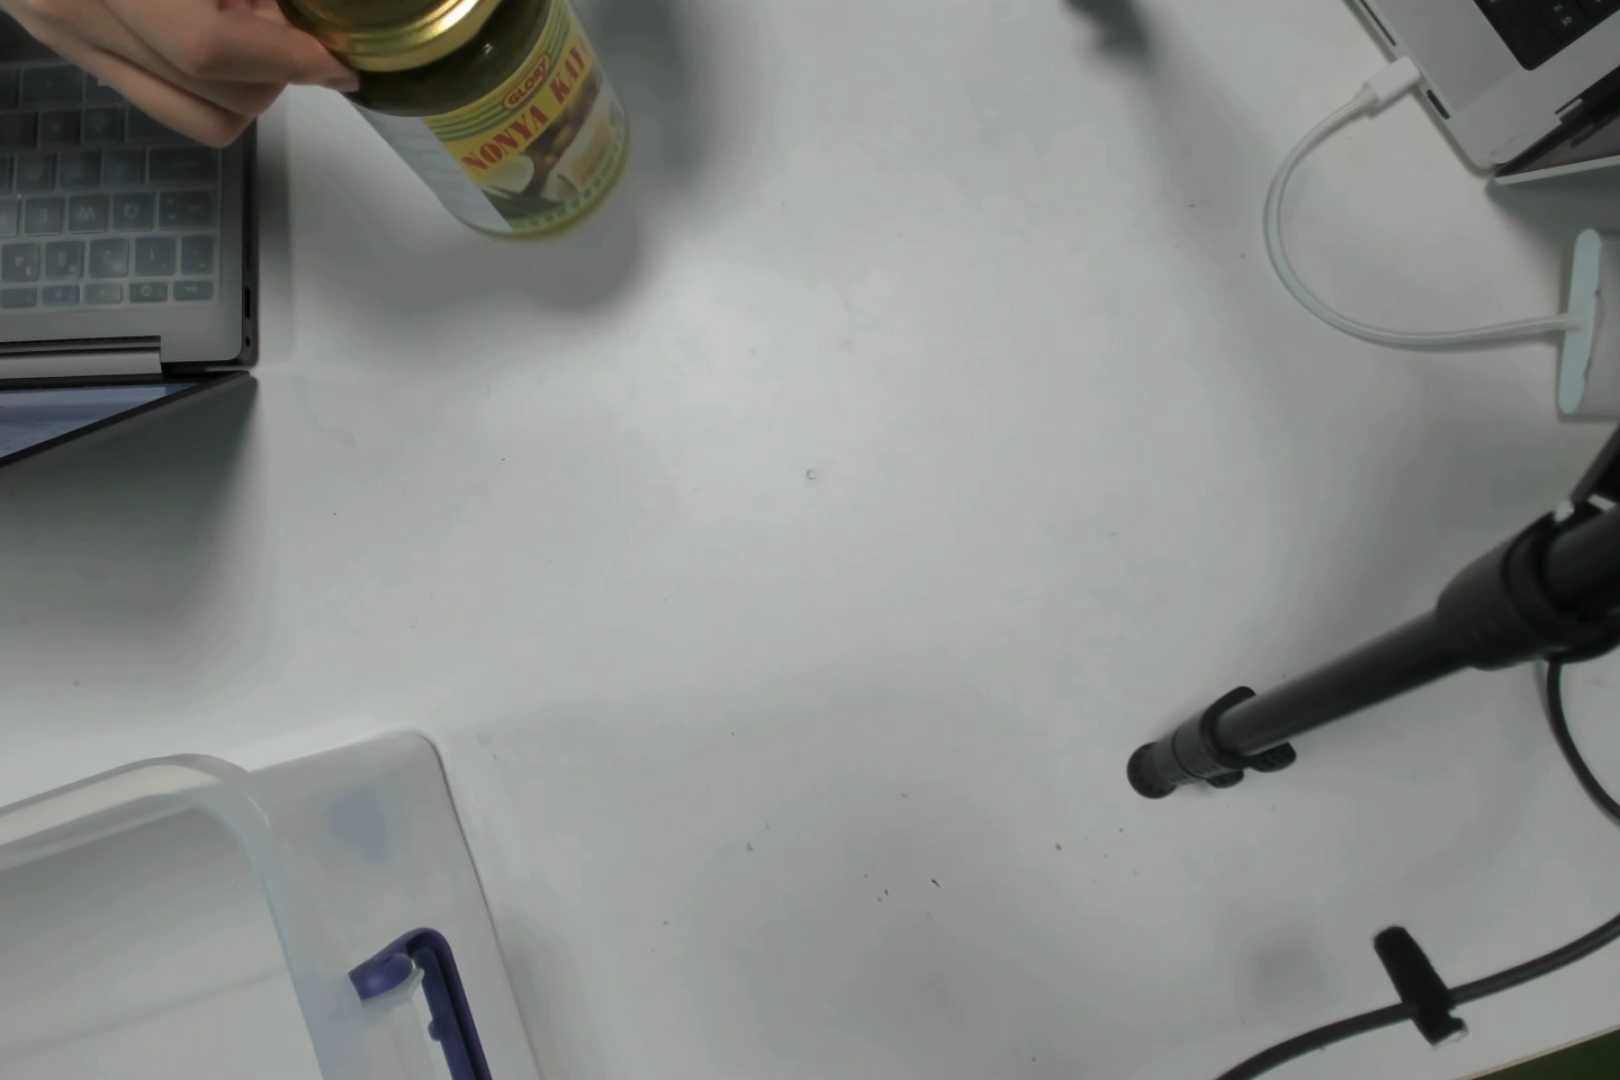Kaya_400-499g_Halal_NonHealthy: (374, 10, 640, 231)
